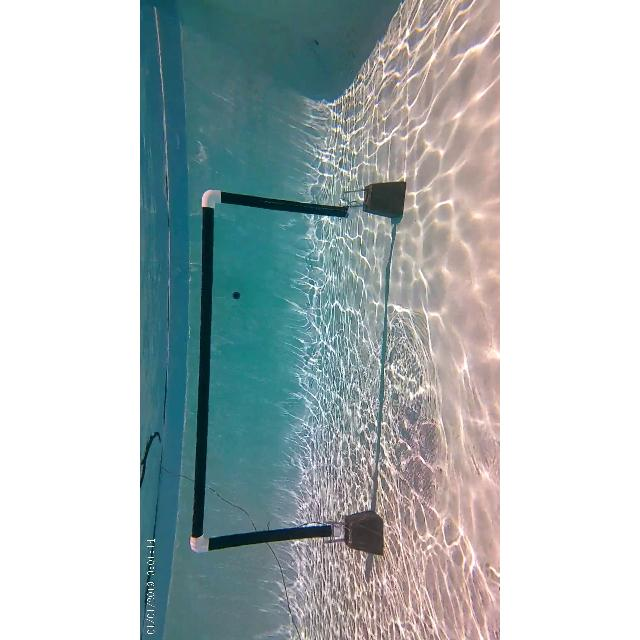prequal gate: (191, 188, 361, 556)
prequal gate leg l: (186, 510, 394, 558)
prequal gate leg r: (192, 180, 408, 230)
